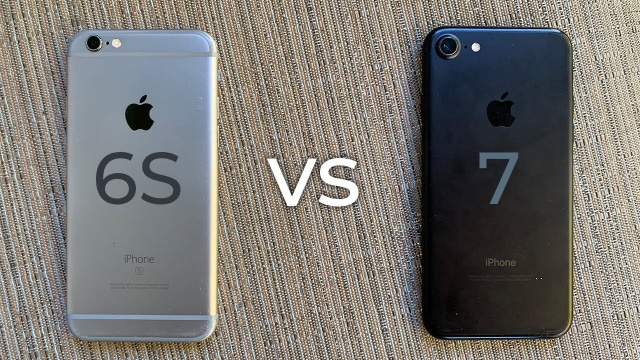apple: (110, 91, 167, 140), (481, 86, 525, 140)
